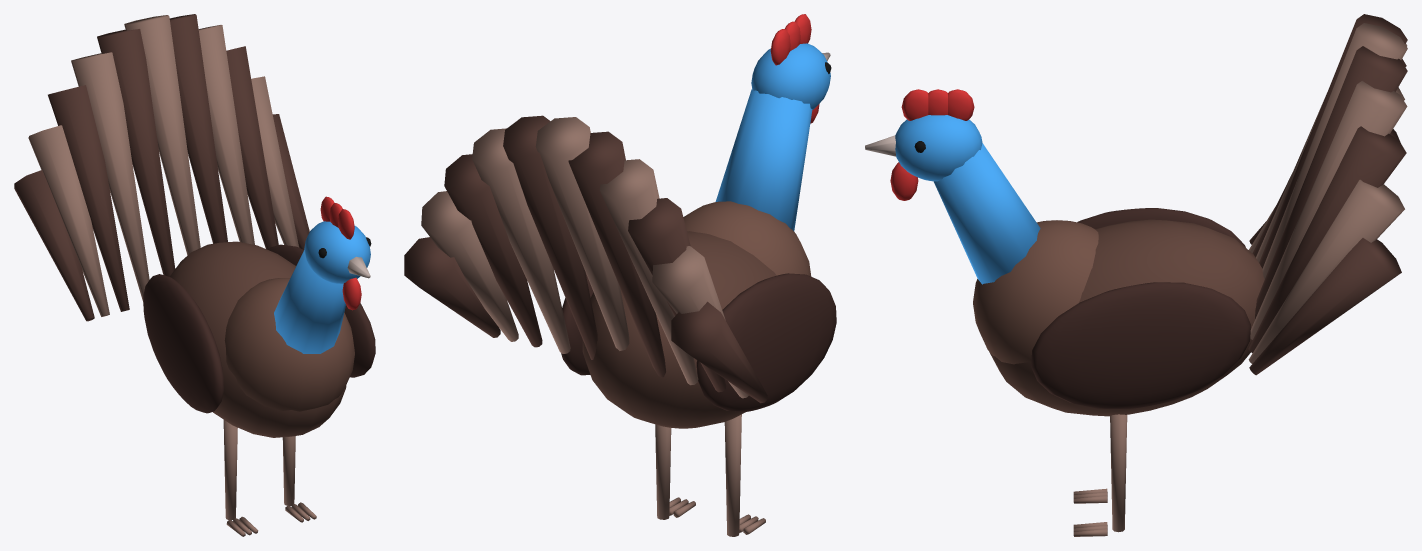
The model's file is turkey.glb.
3 views of the same model, side by side, from view 1: azimuth 30°, elevation 25°; view 2: azimuth 150°, elevation 25°; view 3: azimuth 270°, elevation 25° (orthographic). The views are drawn at different scales.
Parts seen in each view (by area): view 1: turkey; view 2: turkey; view 3: turkey.
Part boxes in pixels (box(x1,y1,x2,y2)): turkey: box(14, 14, 375, 536); turkey: box(404, 14, 836, 536); turkey: box(865, 14, 1407, 536).
Size of the model in its own units: 1.02 by 1.54 by 1.55.
